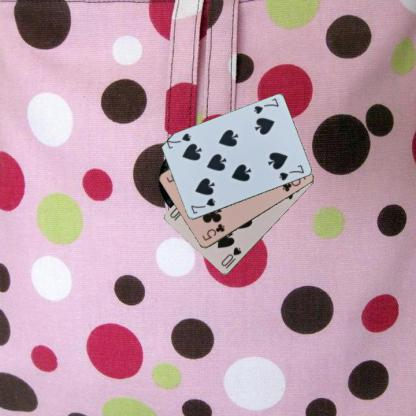10s: (218, 244, 243, 270)
5c: (199, 221, 226, 242)
7s: (250, 96, 280, 115), (188, 196, 216, 215)
